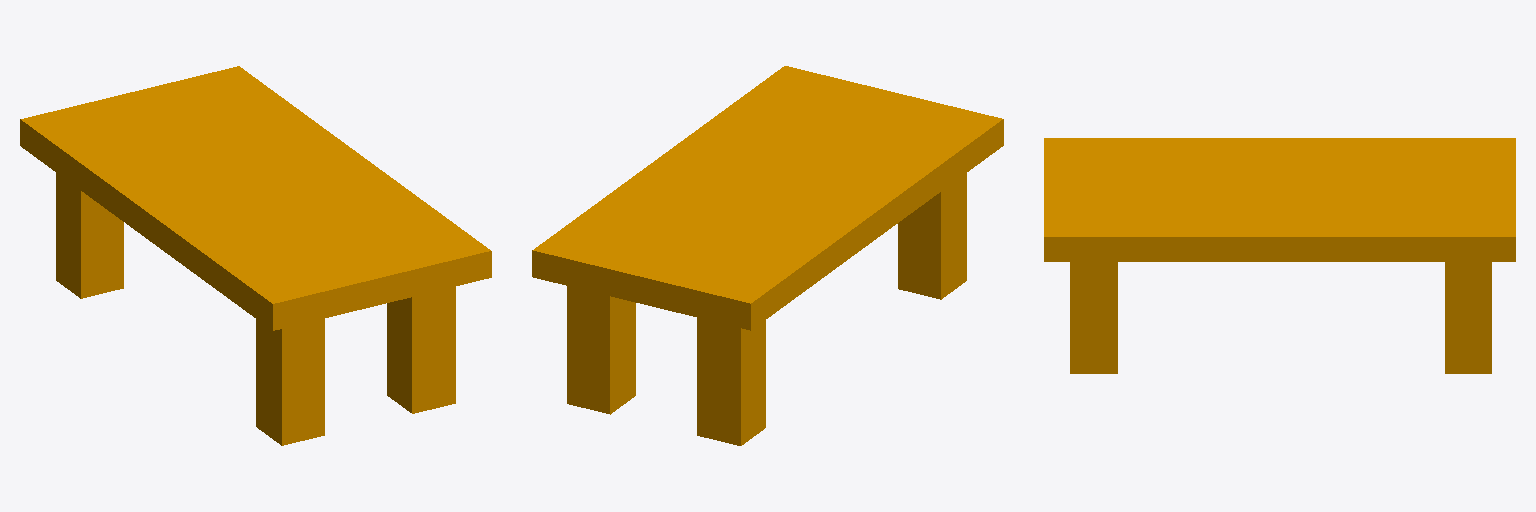
URDF robot description (table):
<?xml version="1.0"?>
<robot name="table">
  <link name="table">
    <visual>
      <origin rpy="0 0 0" xyz="0 0 0"/>
      <geometry>
        <mesh filename="SimpleTable.obj"/>
      </geometry>
    </visual>

    <collision>
      <geometry>
        <mesh filename="SimpleTable.obj"/>
      </geometry>
      <origin rpy="0 0 0" xyz="0 0 0"/>
    </collision>
  </link>

</robot>

--- Facts derived from the render (not from the file) ---
The picture shows the robot from 3 angles, left to right: view 1: azimuth 30°, elevation 25°; view 2: azimuth 150°, elevation 25°; view 3: azimuth 270°, elevation 25°; orthographic projection.
Model table with 1 links and 0 joints (none), rooted at table, posed all joints at 0.
Visible links, largest first — view 1: table; view 2: table; view 3: table.
Boxes of the visible links, x1,y1,x2,y2 form: table: (20, 66, 491, 445); table: (532, 66, 1003, 445); table: (1044, 138, 1515, 373).
Bounding box of the posed robot: 1.01 × 2.01 × 0.693 m (x, y, z).
Meshes: 1 distinct files referenced, 1 mesh visuals loaded (1 OBJ).